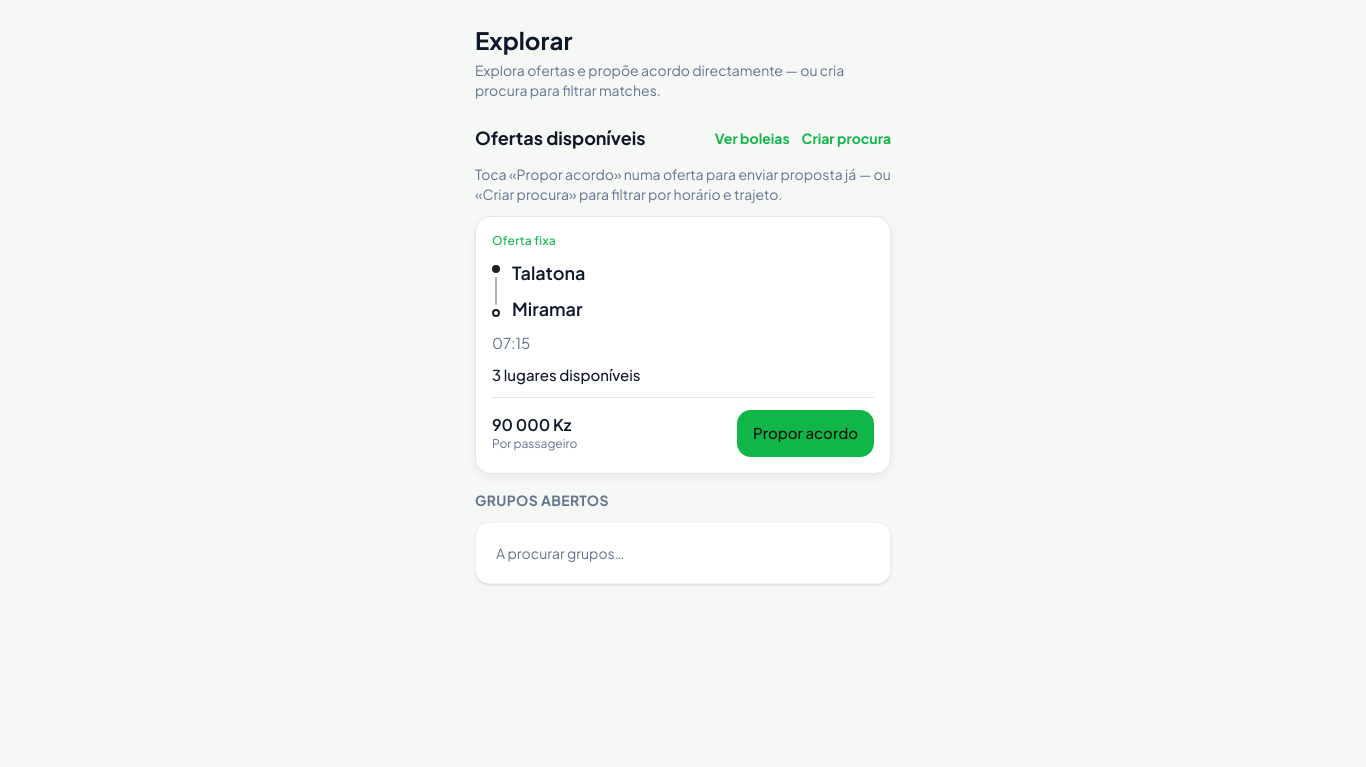
Test: PassengerDashboard — marketplace › createProposta falha após createProcura: feedback claro
What coordinates should you click on to do the following:
click the button "Propor acordo"
I would click on:
 (806, 433)
Its box is [737,410,874,456].
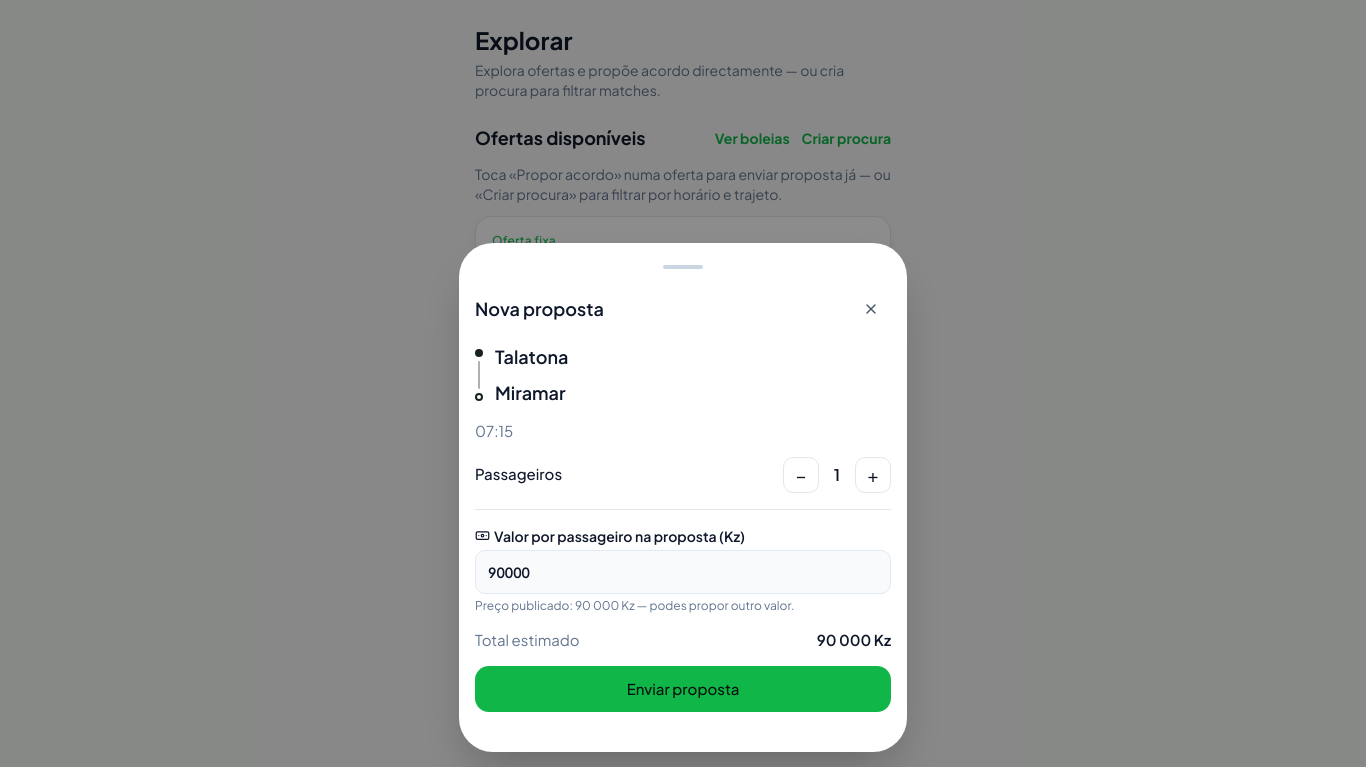
What coordinates should you click on to do the following:
click the button "Enviar proposta"
I would click on:
 (683, 689)
Its box is [475,666,891,712].
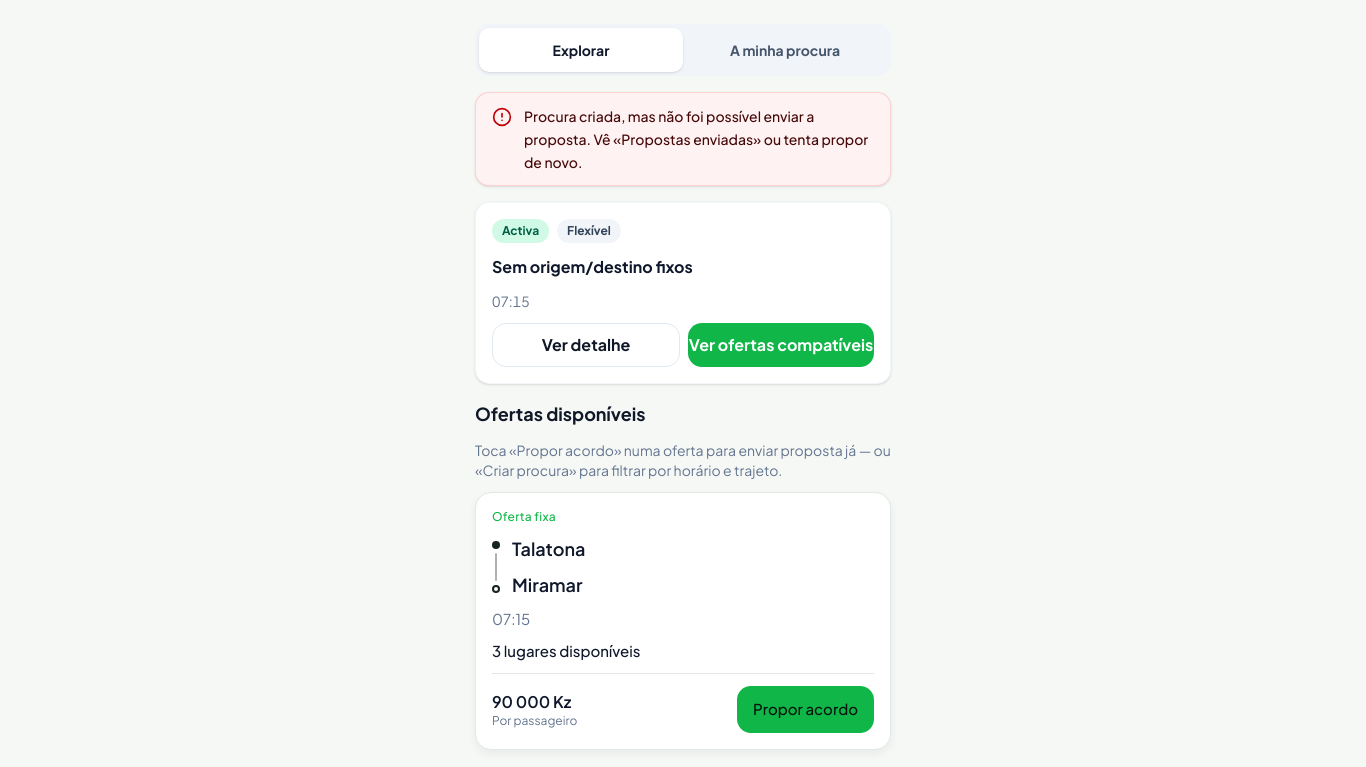
Check: the message shows "Procura criada, mas não foi possível enviar a proposta", box [524,107,868,170]
